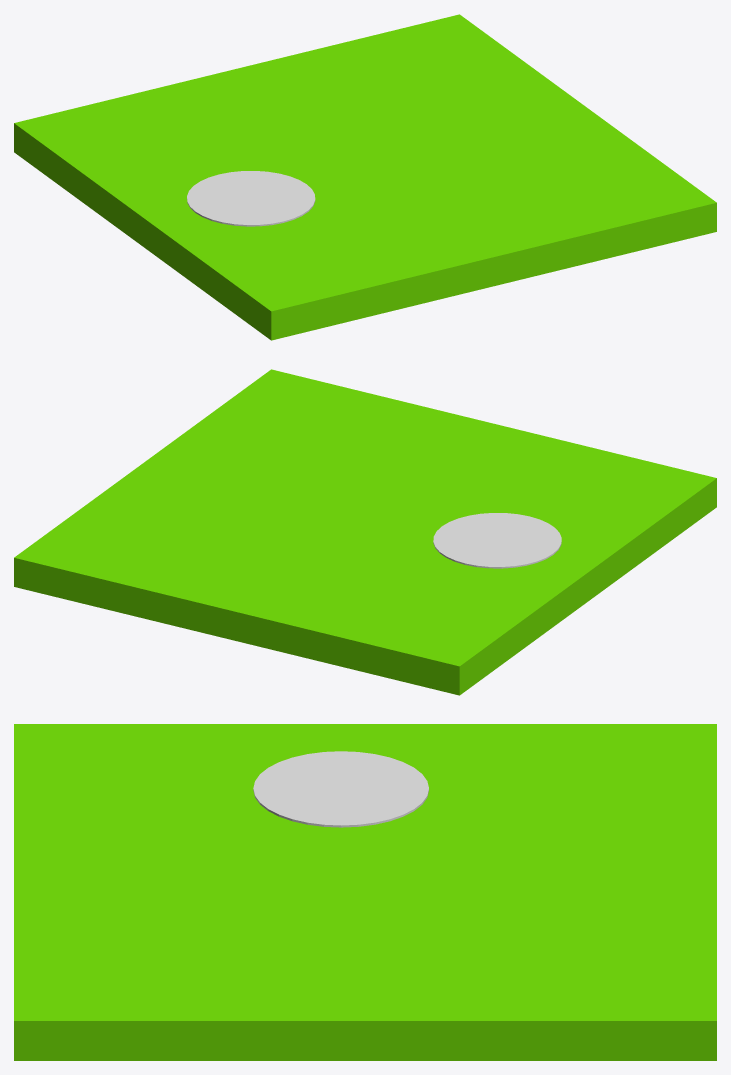
File: BlockTypeTee-3.fbx
3 renders of one model, top to bottom at view 1: azimuth 30°, elevation 25°; view 2: azimuth 150°, elevation 25°; view 3: azimuth 270°, elevation 25°, orthographic. The views are drawn at different scales.
Visible parts, largest first — view 1: Cube, Cylinder; view 2: Cube, Cylinder; view 3: Cube, Cylinder.
Part boxes in pixels (x1,y1,x2,y2): Cube: (14,14,716,340); Cylinder: (187,171,315,226); Cube: (14,369,716,695); Cylinder: (433,513,561,568); Cube: (14,724,716,1060); Cylinder: (253,751,428,827).
Size of the model in its own units: 800 by 52.62 by 800.
